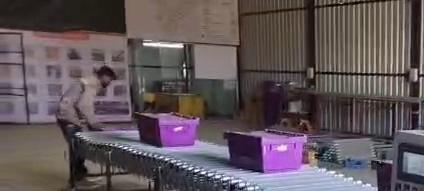box: (224, 130, 306, 172), (137, 113, 198, 146), (374, 161, 392, 190)
